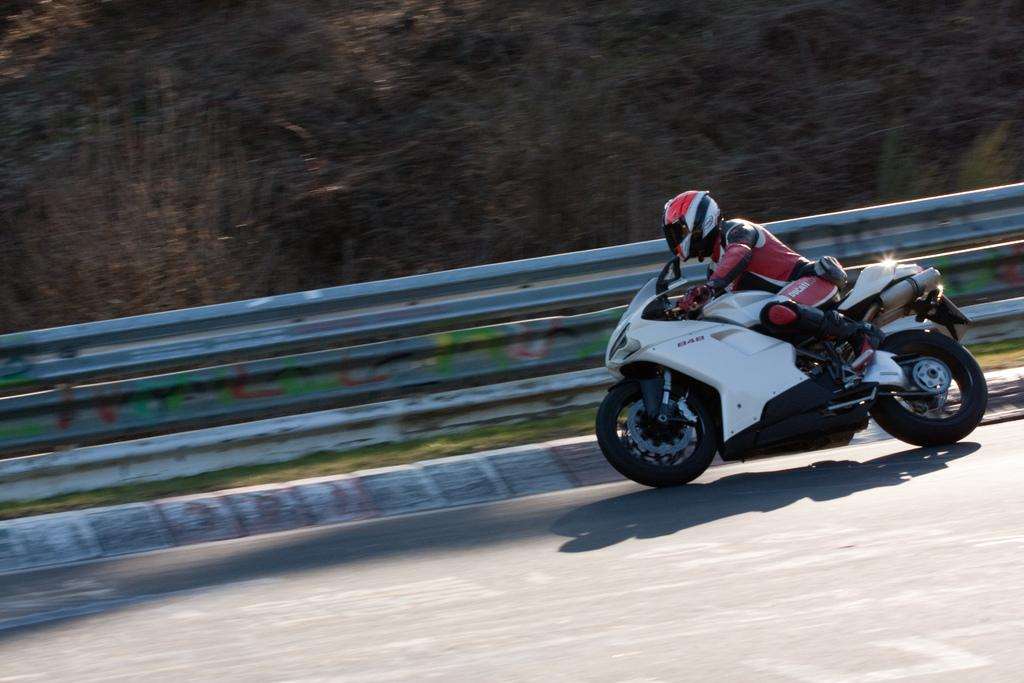helmet: (662, 190, 722, 262)
